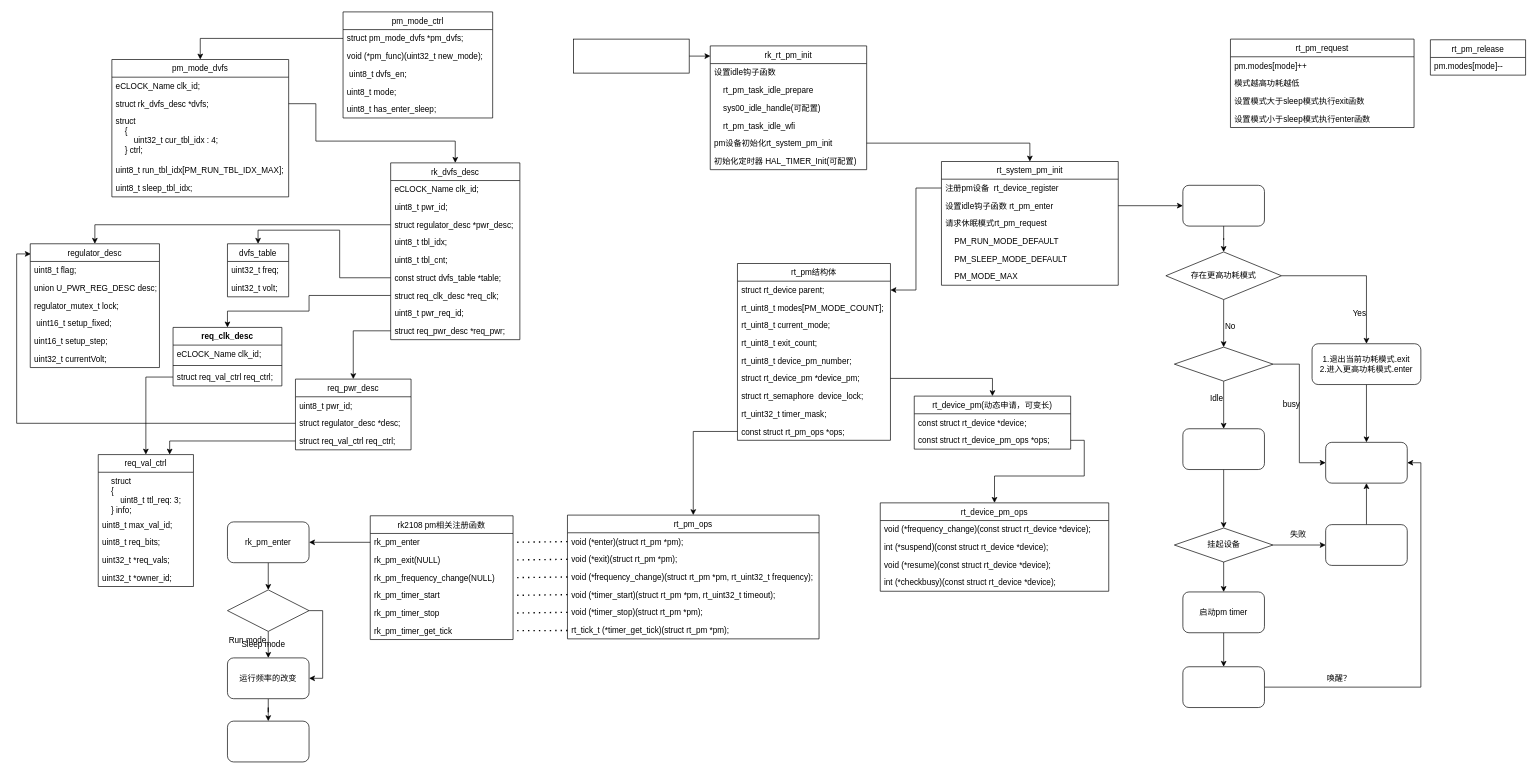
Some shapes in this 1537 by 774 pixel diagram are drawn without their labels. The shapes that lost their labels are listed below. From the top down, each one's centre as x and y in pixels, then its label:
the point at 631,55: 板级初始化rt_hw_board_init
the point at 1223,205: rt_pm_enter
the point at 1223,363: 检查设备busy状态
the point at 1223,449: 功耗模式切换
the point at 1366,462: return
the point at 1366,544: 退出休眠模式
the point at 268,610: 运行模式
the point at 1223,687: 进入休眠模式等待唤醒
the point at 268,741: HAL_SYS_Suspend
